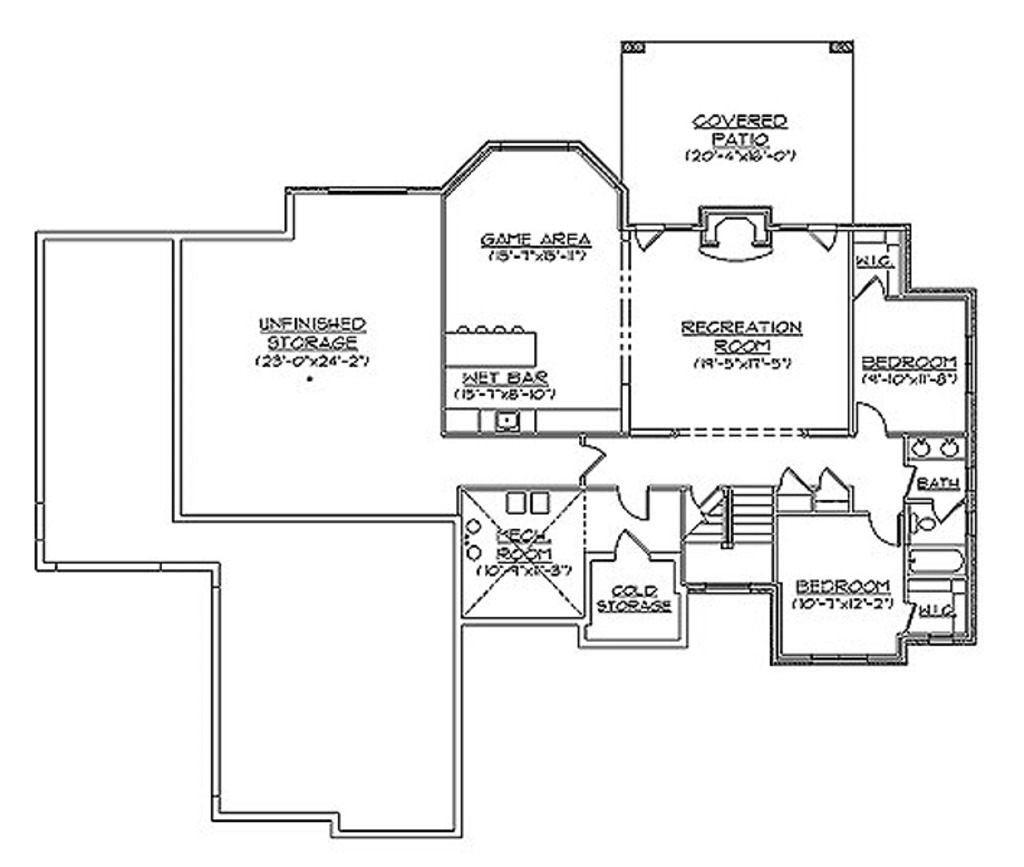door: (815, 456, 852, 523), (864, 498, 903, 552), (775, 464, 816, 511), (616, 480, 659, 524), (633, 218, 677, 260), (855, 391, 892, 438), (575, 434, 604, 484), (612, 524, 648, 564), (855, 268, 889, 308), (809, 215, 837, 258), (931, 491, 964, 523)
kitchen_bar: (443, 316, 548, 375)
large_sink: (904, 506, 937, 536)
sink: (487, 399, 531, 435)
small_sink: (907, 435, 968, 462)
stairs: (683, 484, 777, 559)
tub: (905, 544, 968, 579)
window: (803, 647, 880, 668), (699, 578, 755, 600), (963, 326, 979, 399)
